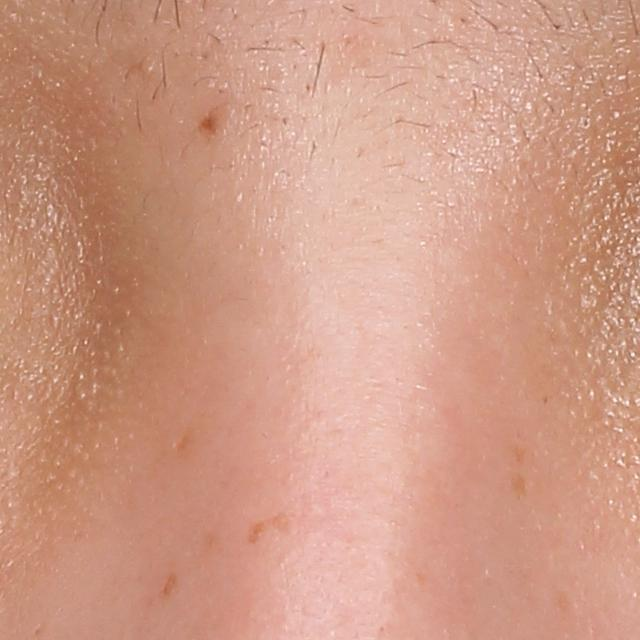comedo: (136, 57, 159, 78)
melasma: (245, 512, 294, 547), (511, 470, 527, 506), (159, 570, 177, 600)
